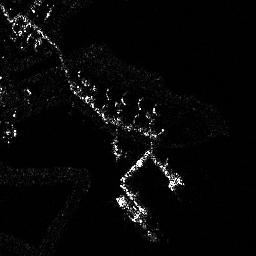ship: (113, 194, 145, 227)
